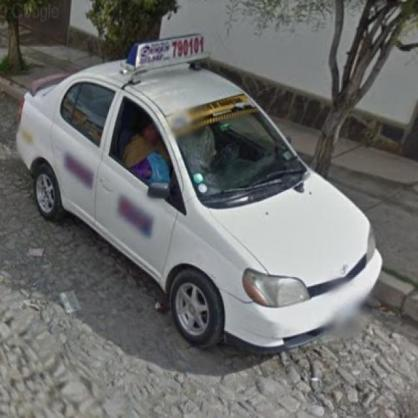car: (13, 30, 386, 356)
